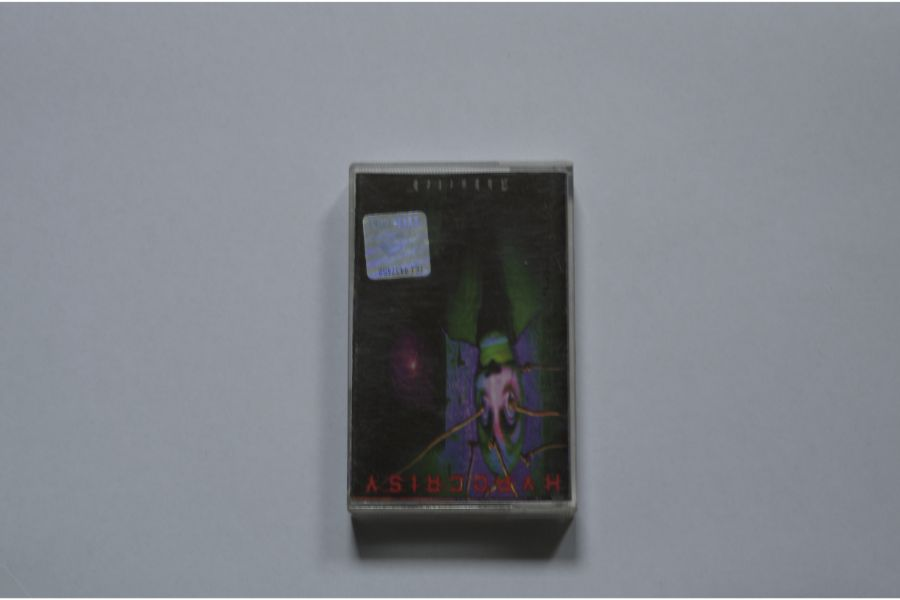album: (344, 160, 578, 520)
